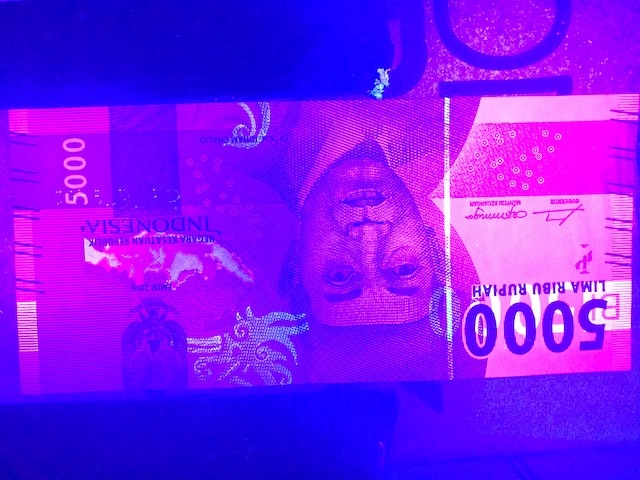5_RIBU_ASLI: (431, 276, 636, 355)
